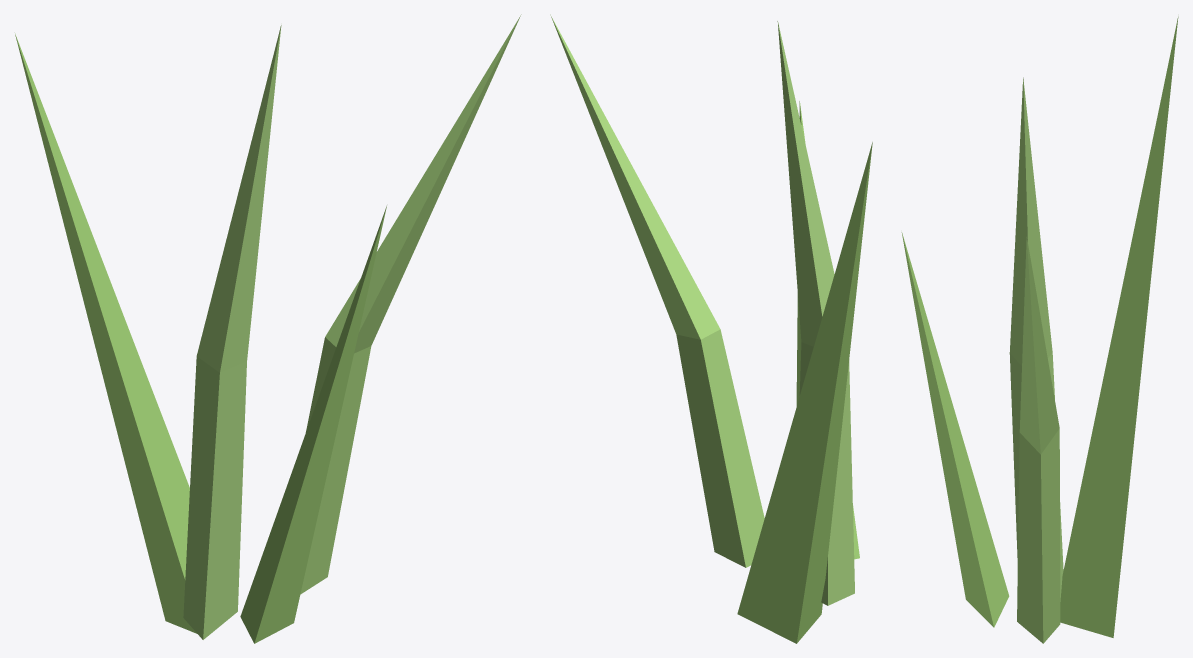
File: Grass3D_a_04.fbx
3 renders of one model, left to right at view 1: azimuth 30°, elevation 25°; view 2: azimuth 150°, elevation 25°; view 3: azimuth 270°, elevation 25°, orthographic. The views are drawn at different scales.
Parts seen in each view (by area): view 1: Grass3D_a_04; view 2: Grass3D_a_04; view 3: Grass3D_a_04.
Part boxes in pixels (x1,y1,x2,y2): Grass3D_a_04: (15,14,521,643); Grass3D_a_04: (550,14,872,643); Grass3D_a_04: (901,16,1178,643).
Bounding box in the file's own units: 41.37 × 57.15 × 24.77.
